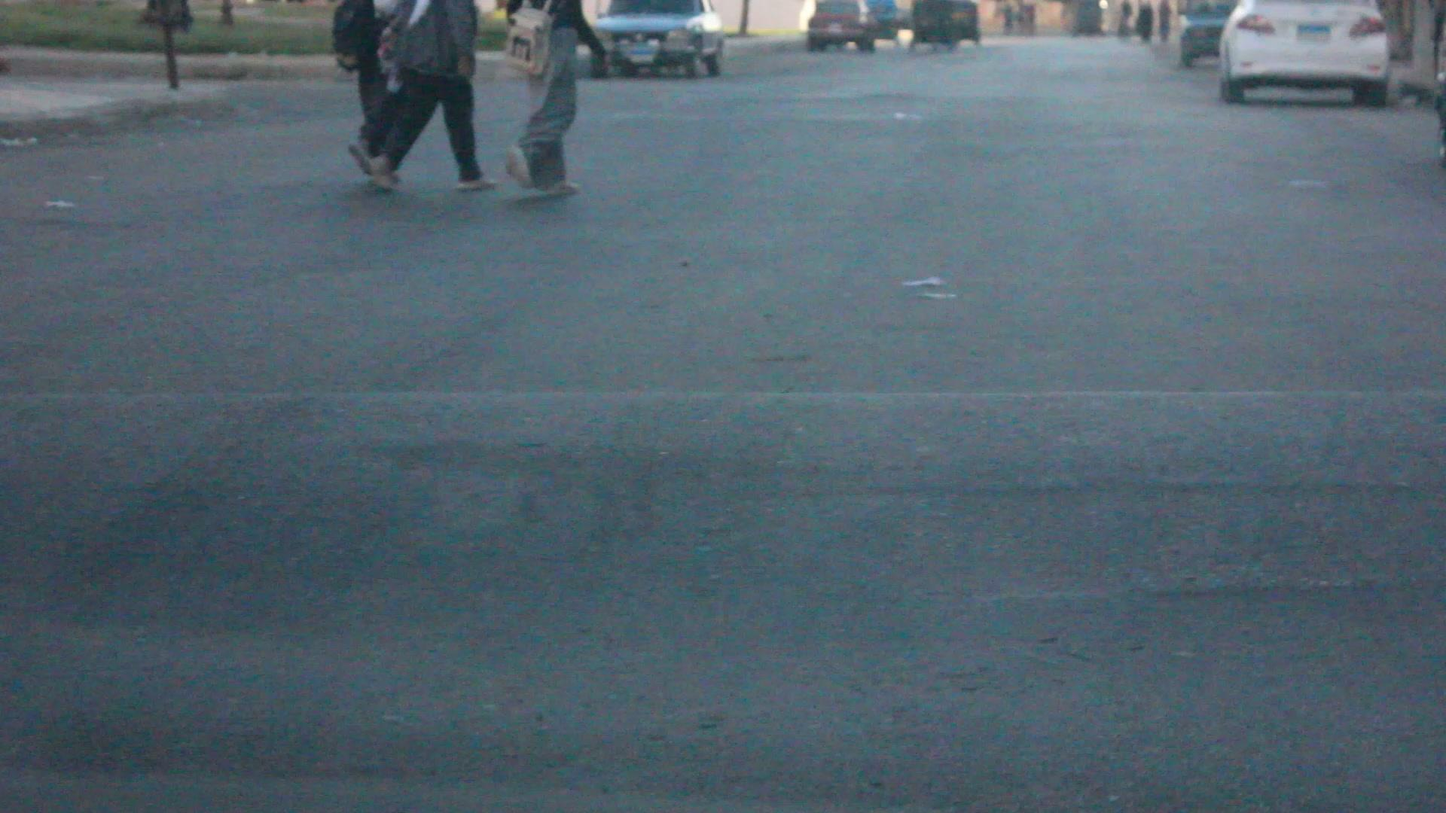Bump: (0, 395, 1445, 812)
